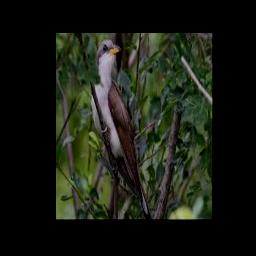Cuckoo: (92, 39, 150, 218)
